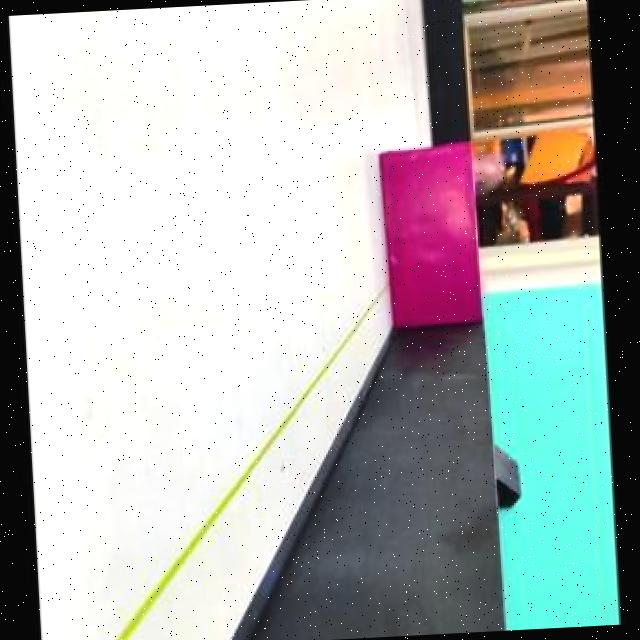xparking: (382, 148, 481, 325)
